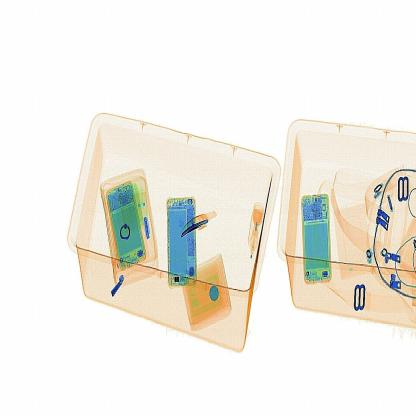pliers: (178, 210, 222, 237)
